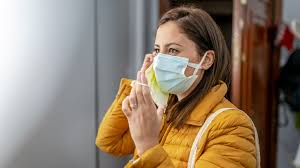mask: (153, 53, 198, 95)
